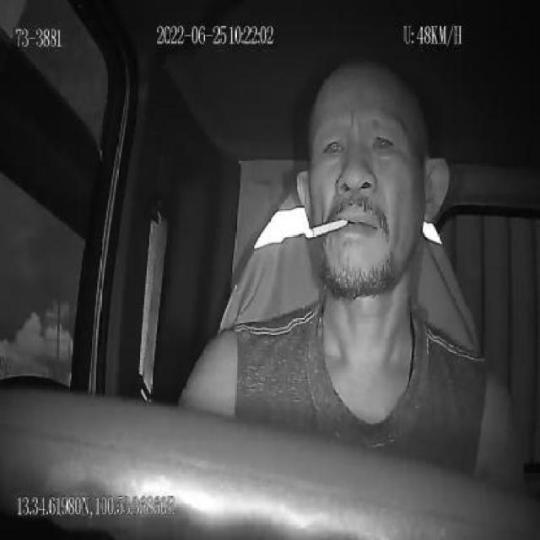smoking: (306, 218, 348, 239)
